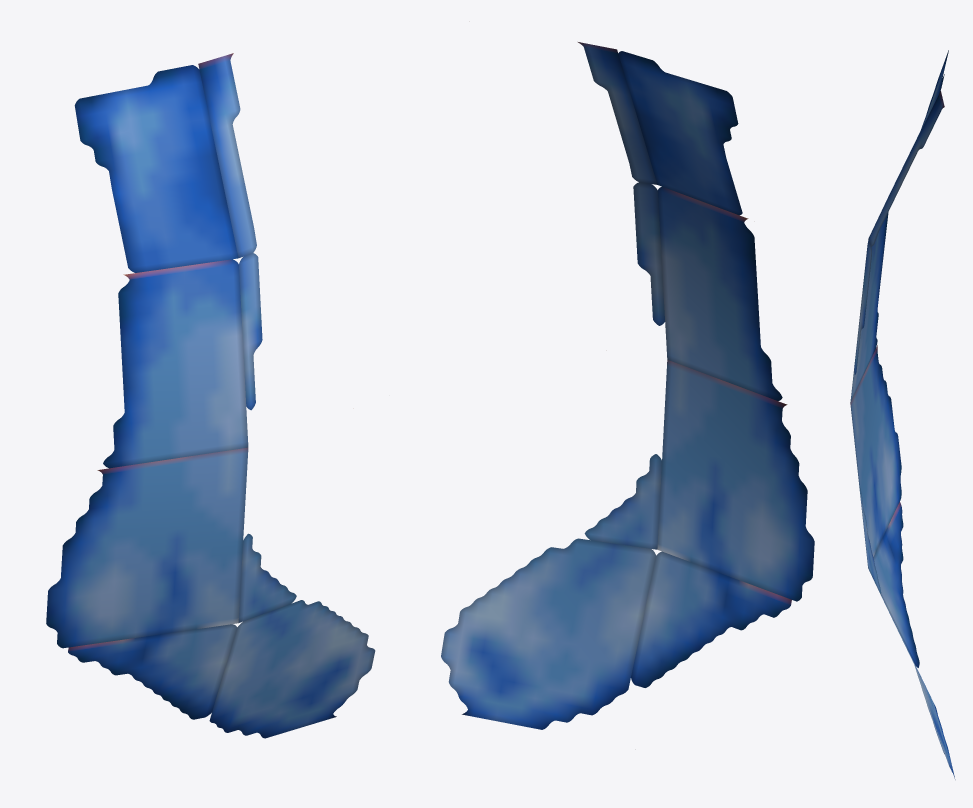
3 renders of one model, left to right at view 1: azimuth 30°, elevation 25°; view 2: azimuth 150°, elevation 25°; view 3: azimuth 270°, elevation 25°, orthographic. The views are drawn at different scales.
Visible parts, largest first — view 1: T1L2M008_37; view 2: T1L2M008_37; view 3: T1L2M008_37.
Boxes of the visible parts, bbox=[...] form: T1L2M008_37: bbox=[46, 53, 375, 738]; T1L2M008_37: bbox=[441, 42, 814, 729]; T1L2M008_37: bbox=[850, 50, 955, 779].
Size of the model in its own units: 0.3994 by 0.7607 by 0.1191.
Materials: 1 (1 with a texture image).
